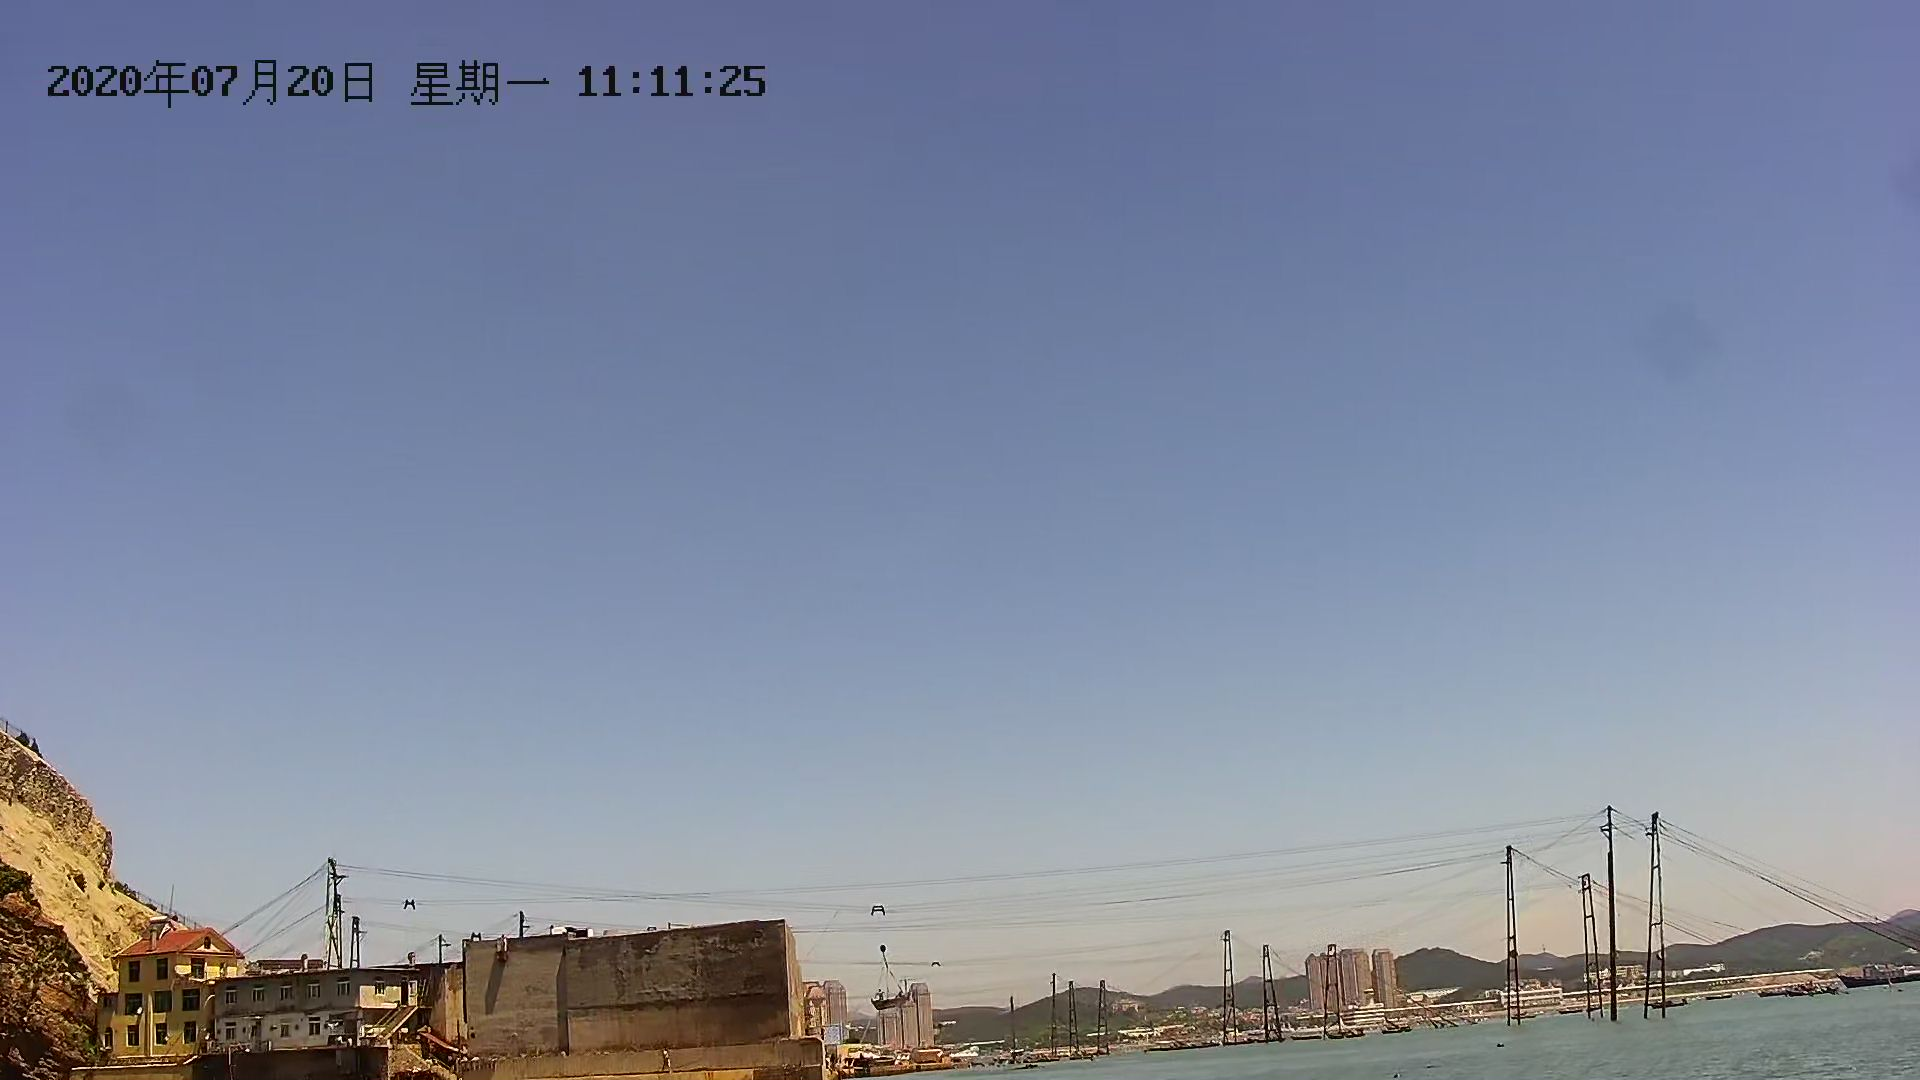mast: (1644, 808, 1673, 1025), (1601, 802, 1626, 1029), (1493, 808, 1518, 1035), (1575, 808, 1600, 1034), (1257, 930, 1280, 1042), (1320, 927, 1342, 1039), (1221, 928, 1244, 1040)
